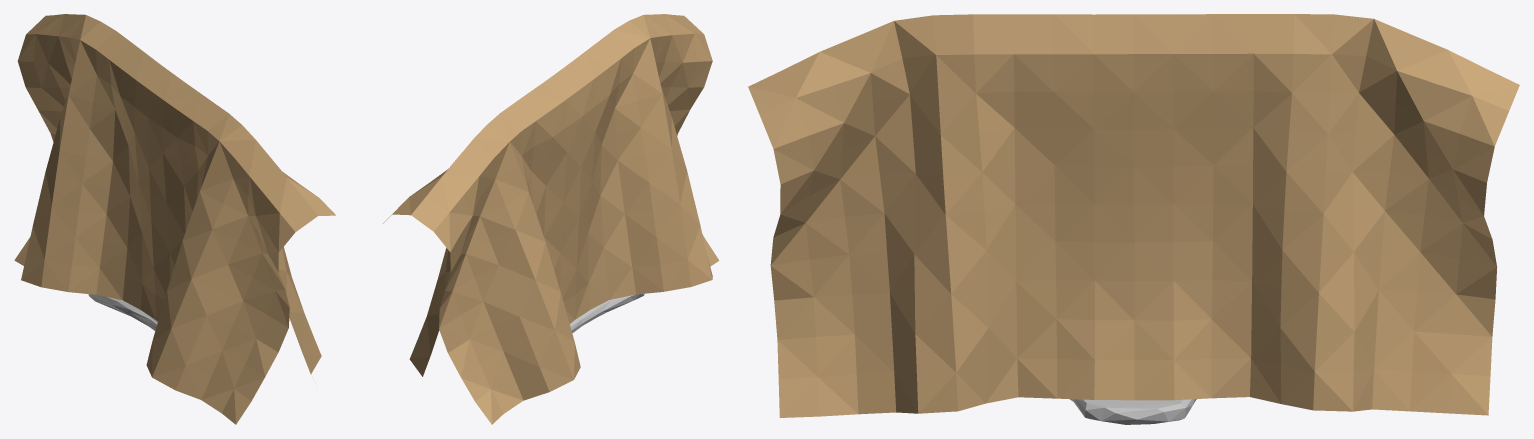
The model's file is level_0.glb.
3 views of the same model, side by side, from view 1: azimuth 30°, elevation 25°; view 2: azimuth 150°, elevation 25°; view 3: azimuth 270°, elevation 25° (orthographic). The views are drawn at different scales.
Parts seen in each view (by area): view 1: world, object.obj; view 2: world, object.obj; view 3: world, object.obj.
Boxes of the visible parts, x1=… form: world: x1=14, y1=14, x2=335, y2=424; object.obj: x1=88, y1=294, x2=157, y2=330; world: x1=383, y1=14, x2=719, y2=424; object.obj: x1=570, y1=293, x2=644, y2=333; world: x1=748, y1=14, x2=1519, y2=417; object.obj: x1=1069, y1=399, x2=1197, y2=424.
Size of the model in its own units: 0.1914 by 0.2944 by 0.5617.
